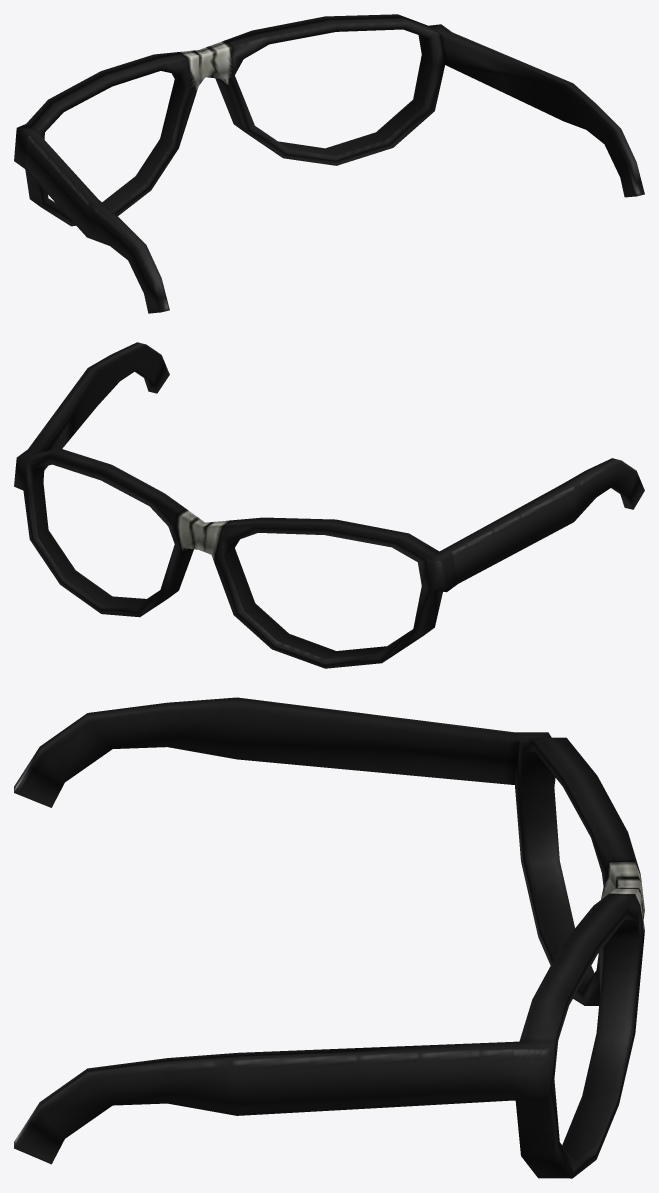
3 views of the same model, one above another, from view 1: azimuth 30°, elevation 25°; view 2: azimuth 150°, elevation 25°; view 3: azimuth 270°, elevation 25° (orthographic). The views are drawn at different scales.
Parts seen in each view (by area): view 1: geometry_0; view 2: geometry_0; view 3: geometry_0.
Boxes of the visible parts, x1,y1,x2,y2 form: geometry_0: (14,14,644,313); geometry_0: (14,342,644,668); geometry_0: (14,697,644,1178).
Bounding box in the file's own units: 1.22 × 0.3393 × 0.8961.
Materials: 1 (1 with a texture image).
